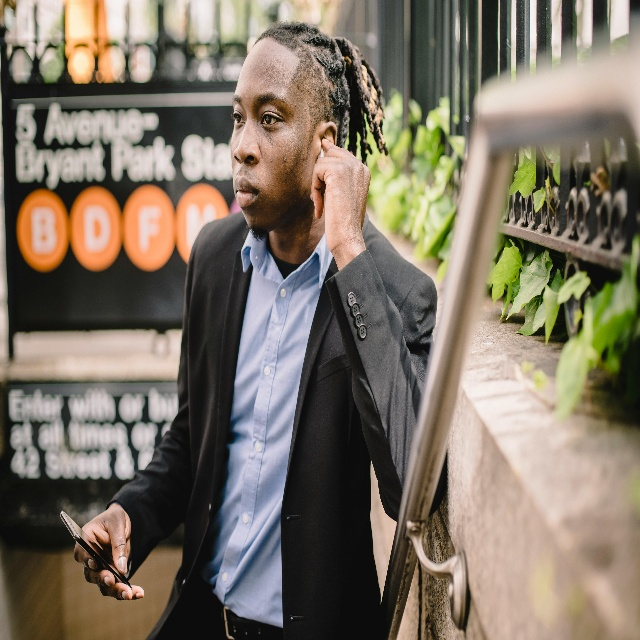Sin_guantes: (68, 514, 145, 606), (311, 138, 373, 246)
